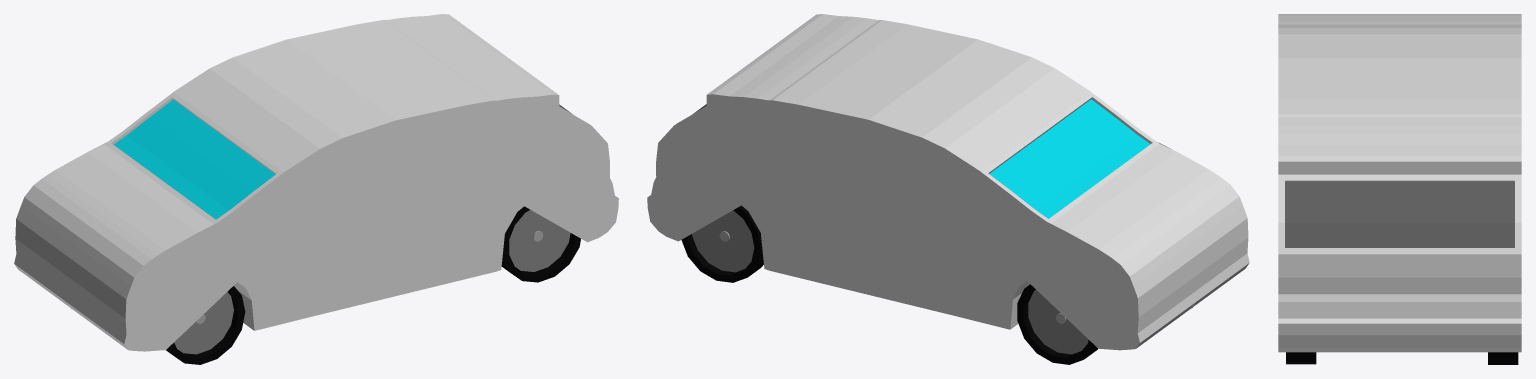
Rendered from Epic-Car-Wheels-together_transform.fbx.
3 views of the same model, side by side, from view 1: azimuth 30°, elevation 25°; view 2: azimuth 150°, elevation 25°; view 3: azimuth 270°, elevation 25° (orthographic). The views are drawn at different scales.
Parts seen in each view (by area): view 1: Car; view 2: Car; view 3: Car.
Boxes of the visible parts, left/top/right/bottom form: Car: left=14, top=14, right=618, bottom=364; Car: left=647, top=14, right=1249, bottom=364; Car: left=1278, top=14, right=1521, bottom=364.
Bounding box in the file's own units: 500 × 193 × 193.
